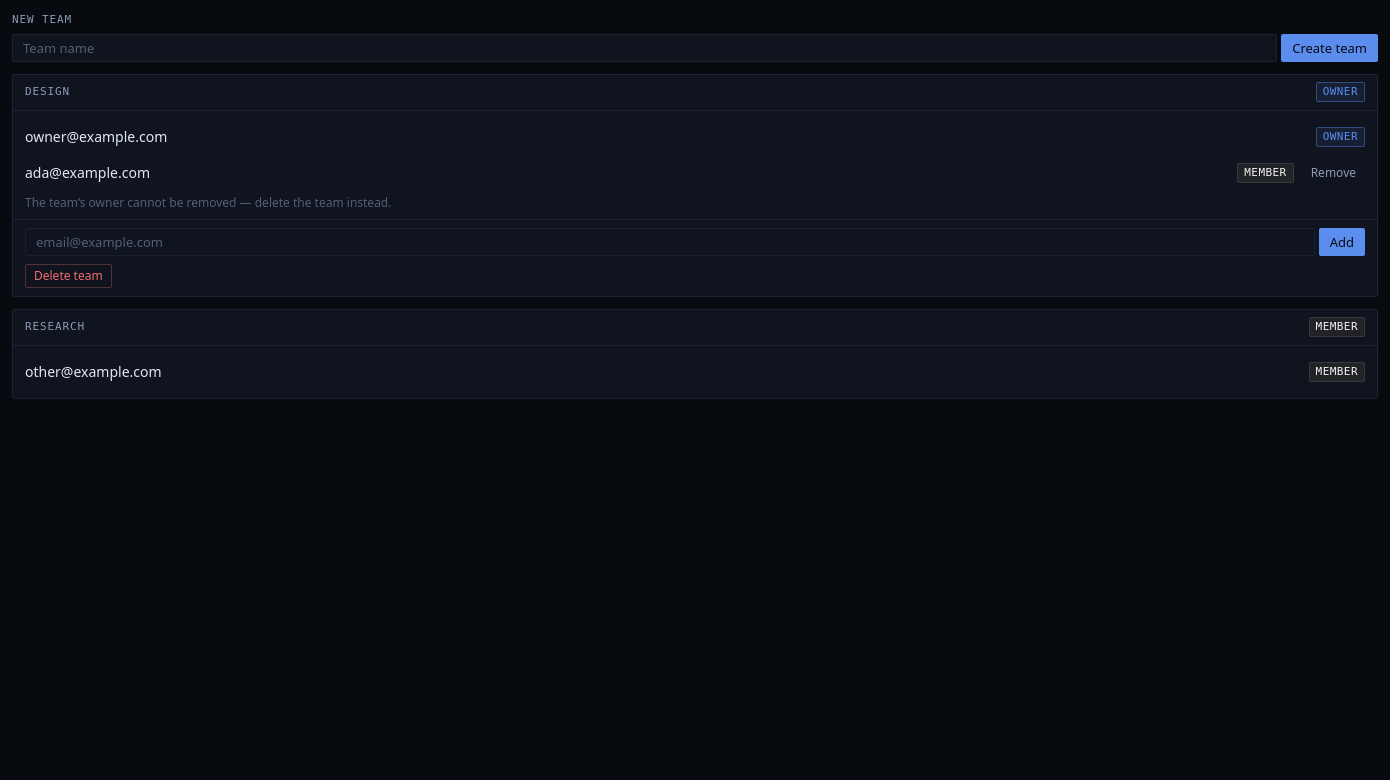
it: TeamManagement › create team sends { name } and the new team appears after the refetch
Expected: the text "ada@example.com" is shown, [25,163,150,182]
Type "Marketing" into the field named "New team name". click: (645, 48)
box: [12,34,1277,62]
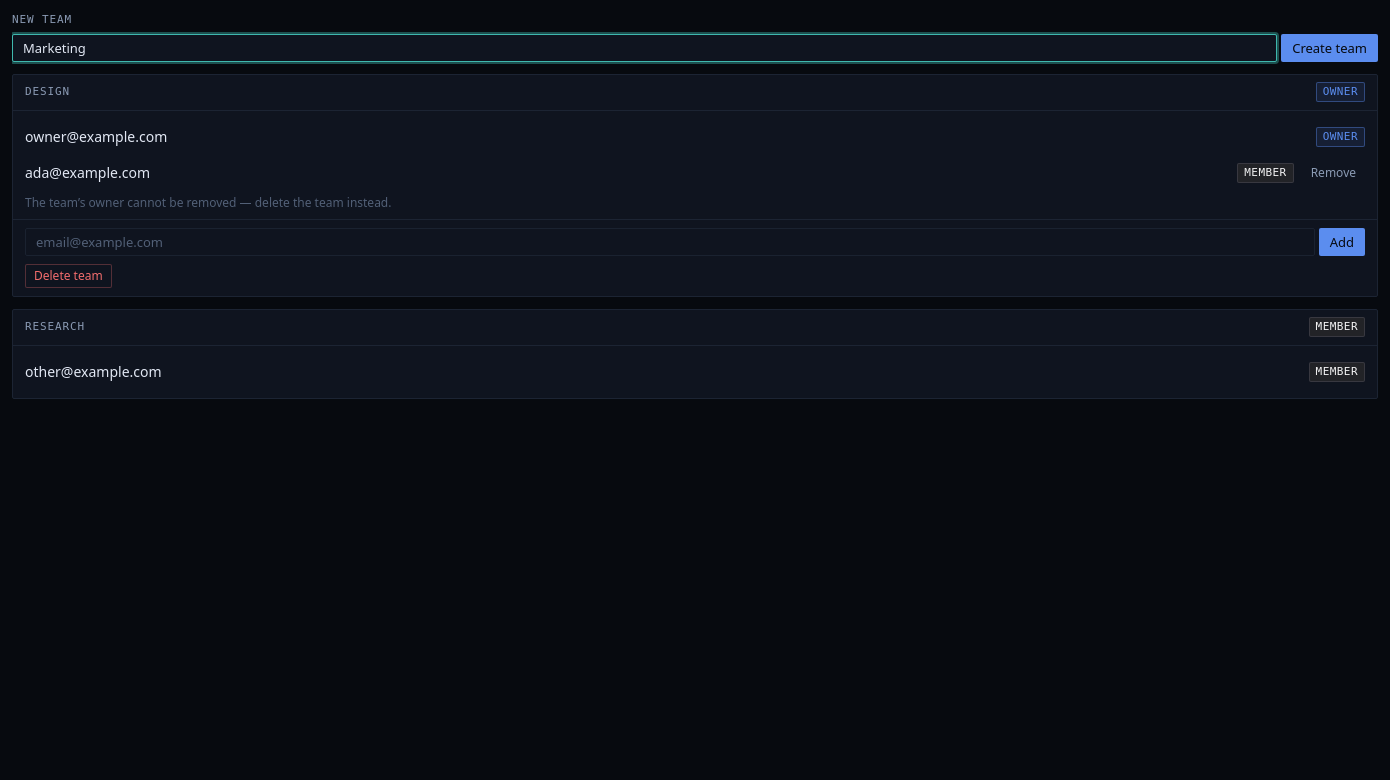
Click the button "Create team". click: (1330, 48)
box: [1281,34,1378,62]
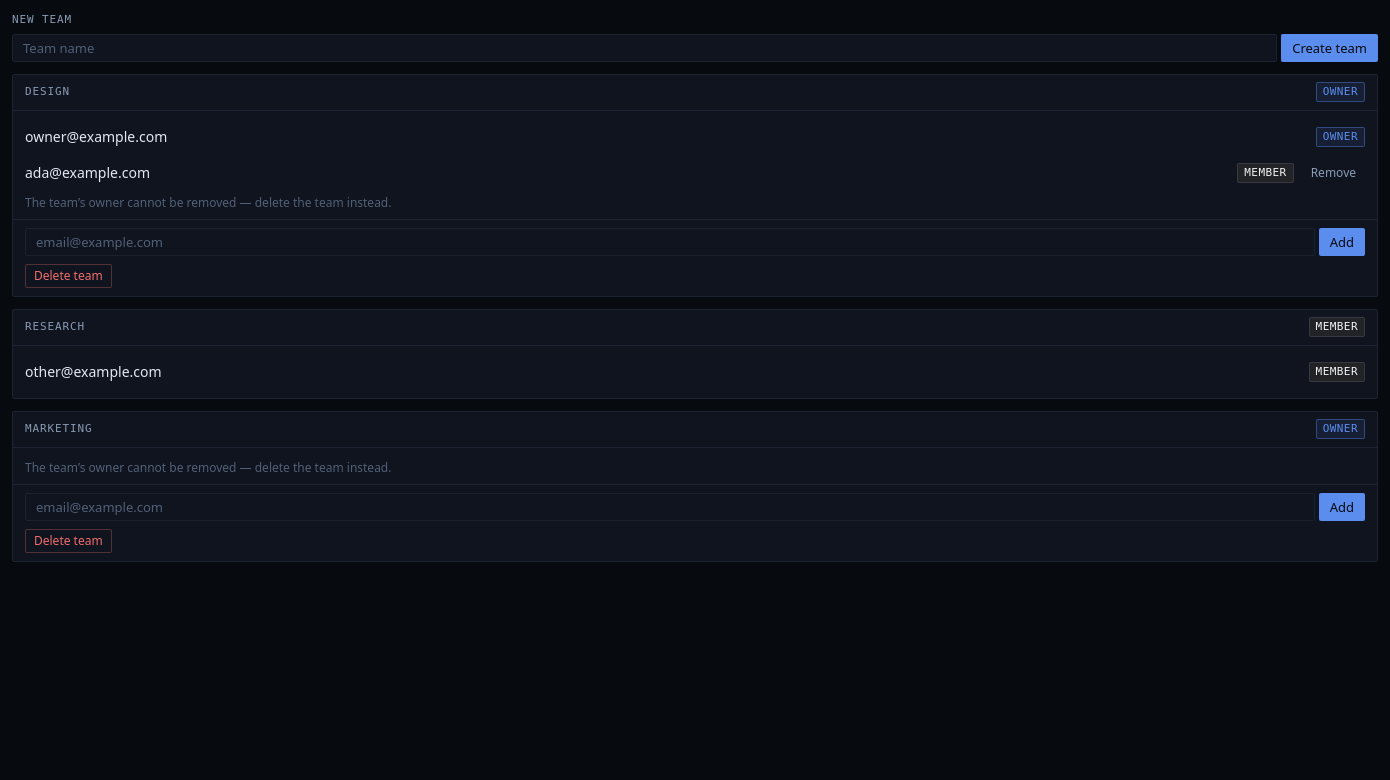
Expected: the heading "Marketing" is shown, [25,422,92,436]
